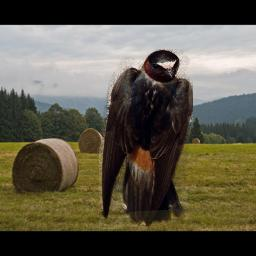Swallow: (99, 49, 193, 229)
